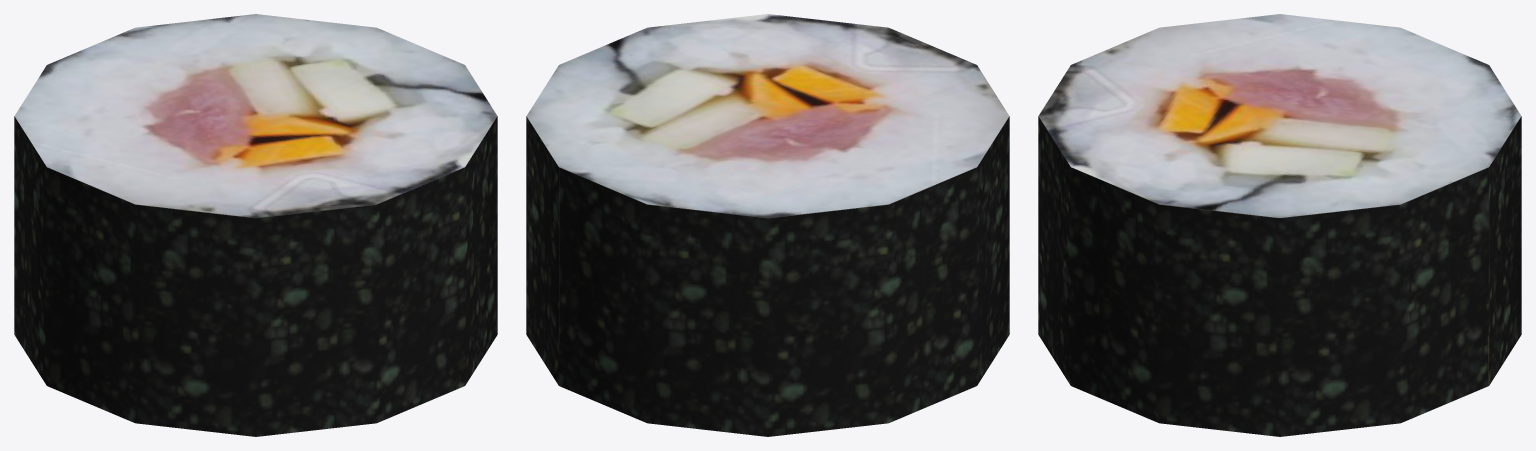
Rendered from SM_Maki_02.FBX.
3 renders of one model, left to right at view 1: azimuth 30°, elevation 25°; view 2: azimuth 150°, elevation 25°; view 3: azimuth 270°, elevation 25°, orthographic.
Parts seen in each view (by area): view 1: Maki_02; view 2: Maki_02; view 3: Maki_02.
Boxes of the visible parts, x1,y1,x2,y2 form: Maki_02: (14, 14, 497, 436); Maki_02: (526, 14, 1009, 436); Maki_02: (1038, 14, 1521, 436).
Size of the model in its own units: 5 by 2.5 by 5.
